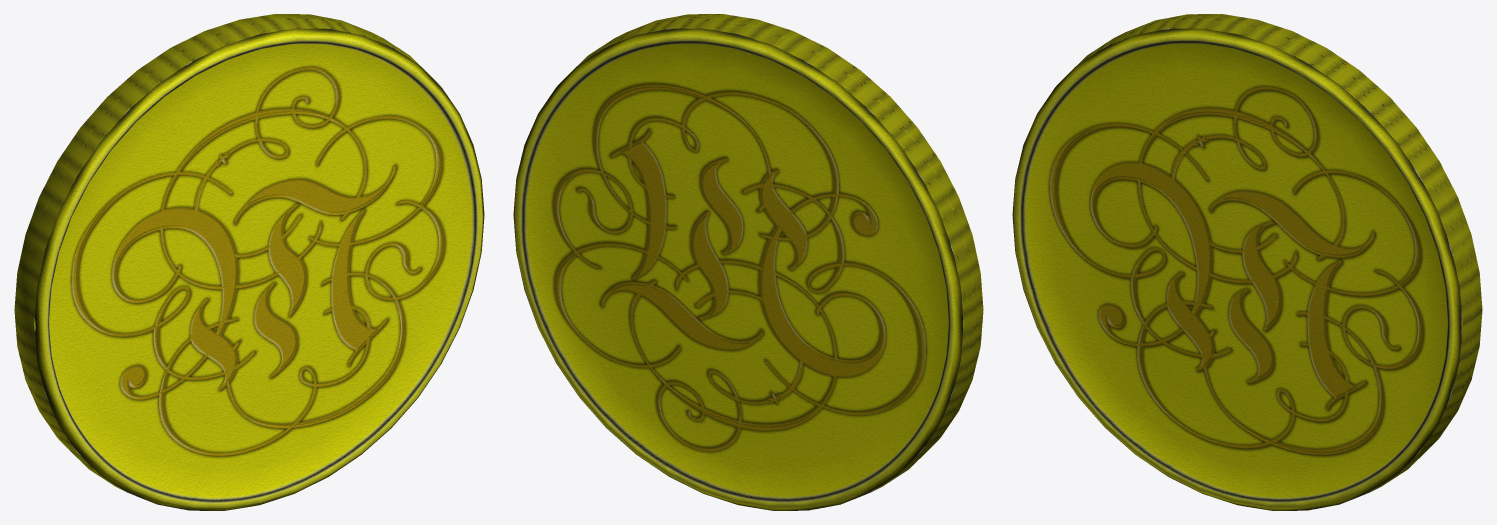
The model's file is mcoin.fbx.
3 views of the same model, side by side, from view 1: azimuth 30°, elevation 25°; view 2: azimuth 150°, elevation 25°; view 3: azimuth 330°, elevation 25° (orthographic).
Visible parts, largest first — view 1: mcoin; view 2: mcoin; view 3: mcoin.
Part boxes in pixels (x1,y1,x2,y2): mcoin: (14, 14, 484, 510); mcoin: (513, 14, 983, 510); mcoin: (1012, 14, 1482, 510).
Bounding box in the file's own units: 0.0198 × 0.0198 × 0.002.
